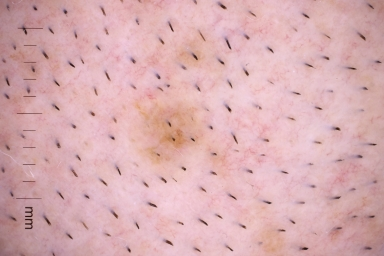melanoma: (147, 102, 199, 167)
